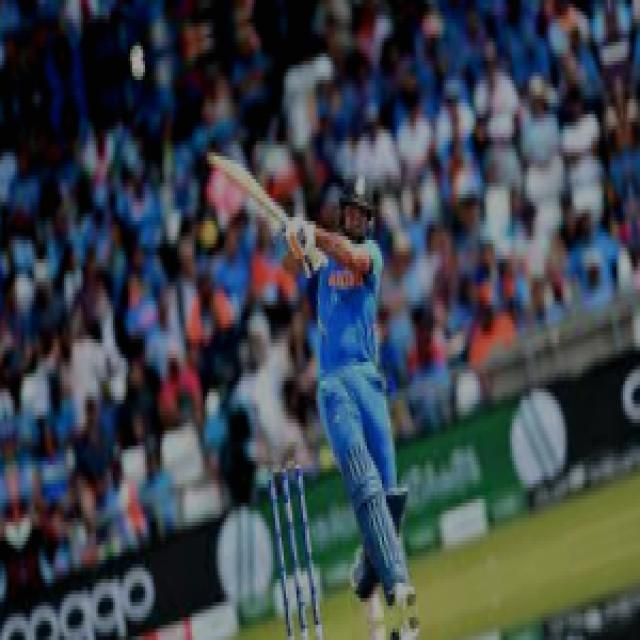toe: (201, 138, 231, 178)
